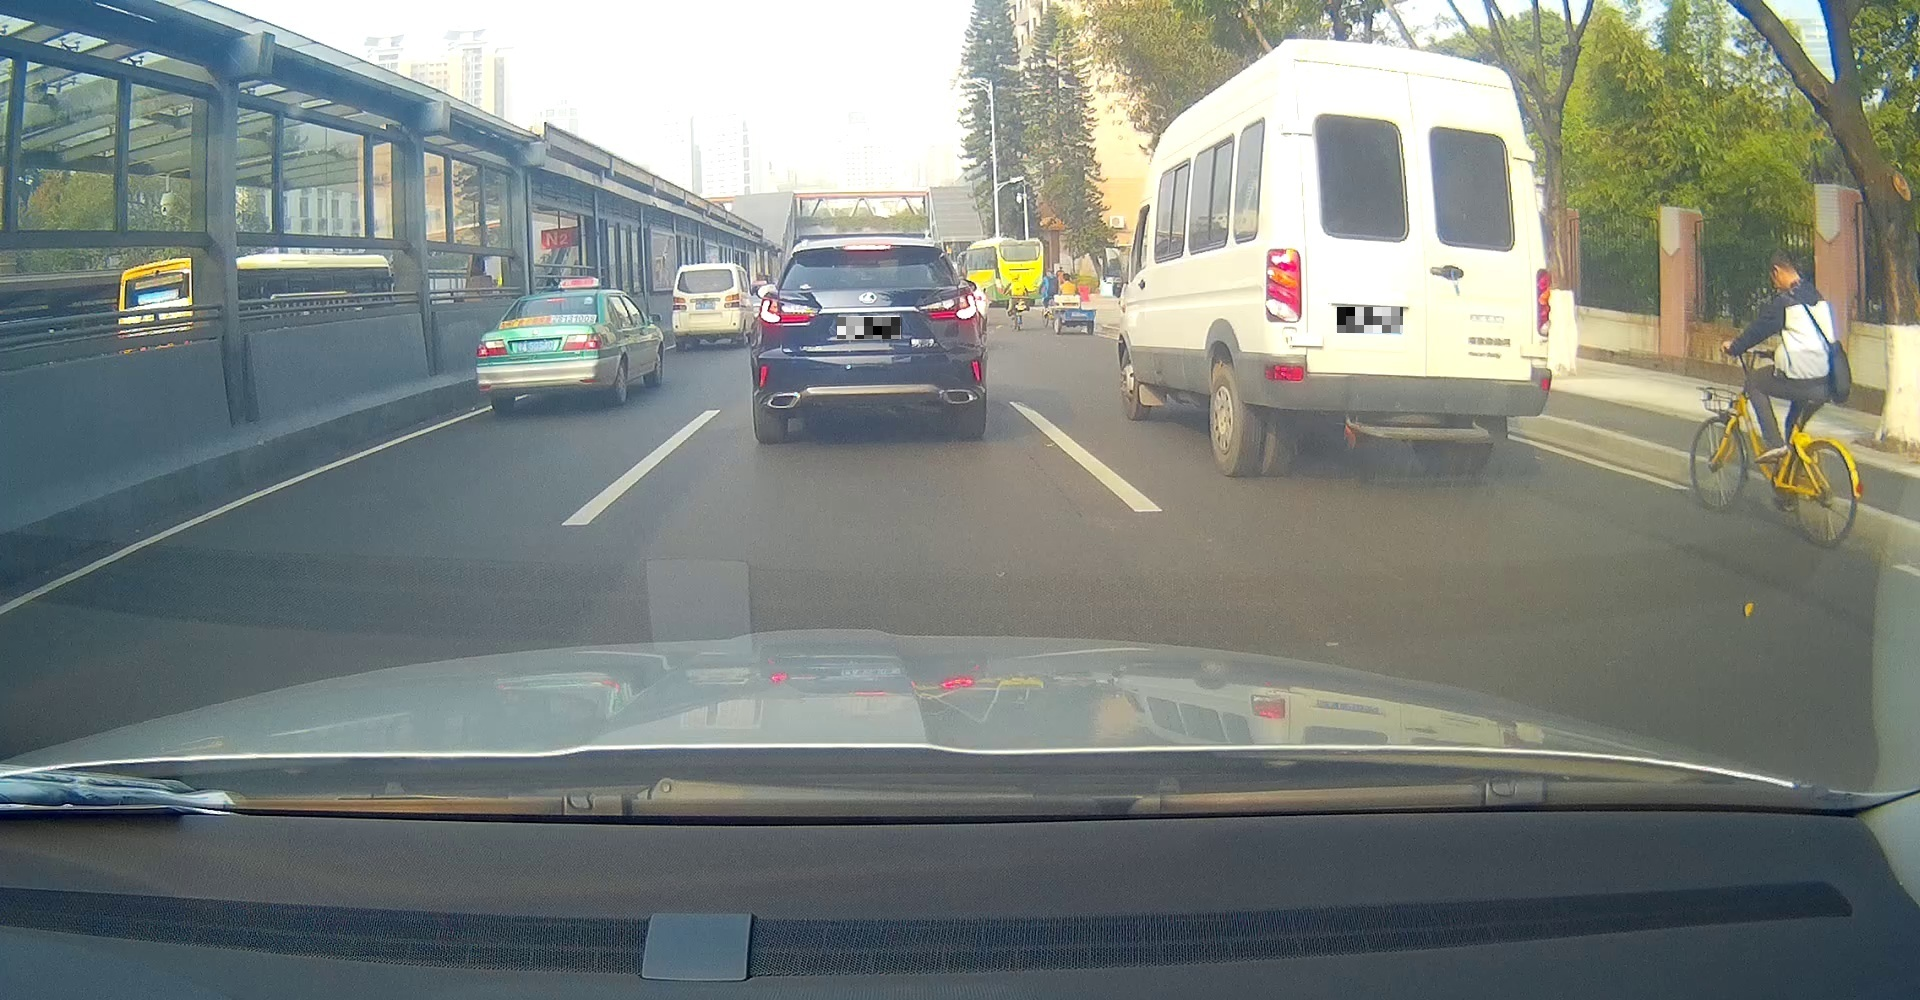L_light: (1265, 247, 1302, 324), (758, 297, 820, 327), (477, 339, 508, 358), (672, 297, 688, 310)
R_light: (918, 293, 978, 321), (1535, 268, 1550, 336), (563, 332, 602, 352), (723, 293, 739, 308)
T_light: (1387, 65, 1430, 74), (842, 244, 891, 249), (547, 298, 566, 302), (702, 266, 715, 270)
day-brake: (752, 239, 988, 444), (476, 289, 604, 416)
day-no: (1258, 38, 1550, 476), (672, 261, 742, 352)
plate_1: (837, 317, 902, 339)
plate_2: (1337, 307, 1403, 332)
